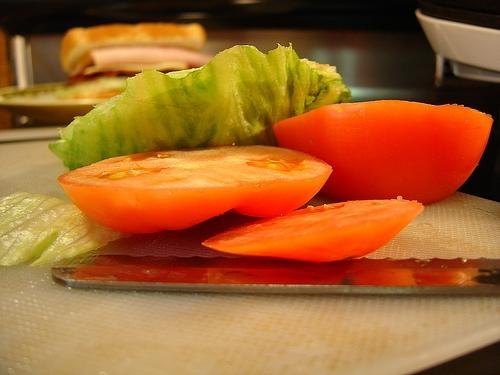lettuce: (49, 42, 352, 172), (0, 191, 135, 266), (56, 76, 130, 99)
tomato: (61, 145, 333, 234), (272, 100, 494, 205), (200, 196, 424, 263)
